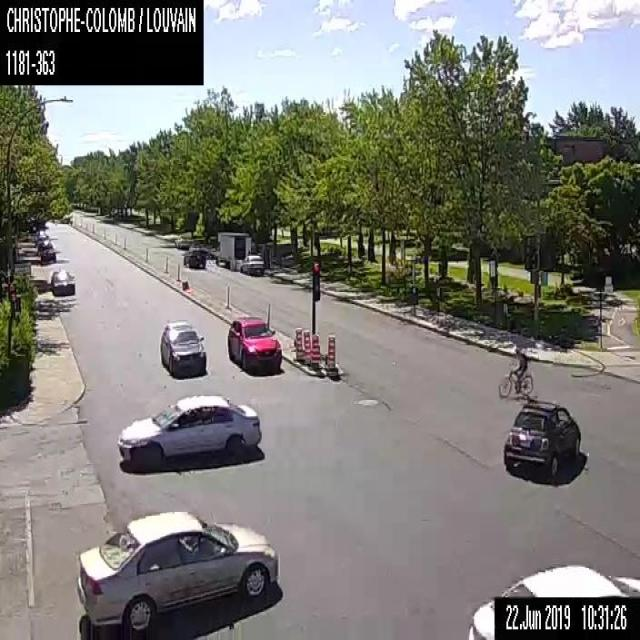construction: (324, 332, 337, 371), (302, 329, 312, 361), (311, 333, 320, 366), (294, 326, 302, 359)
cyclist: (498, 346, 532, 394)
vehicle: (76, 508, 280, 639), (466, 564, 639, 639), (115, 391, 260, 468), (503, 401, 582, 472), (227, 313, 282, 376), (160, 317, 205, 373), (215, 230, 251, 270), (49, 268, 75, 295), (240, 254, 265, 274), (183, 250, 205, 267), (40, 241, 56, 264), (174, 234, 190, 247), (37, 234, 48, 249)
